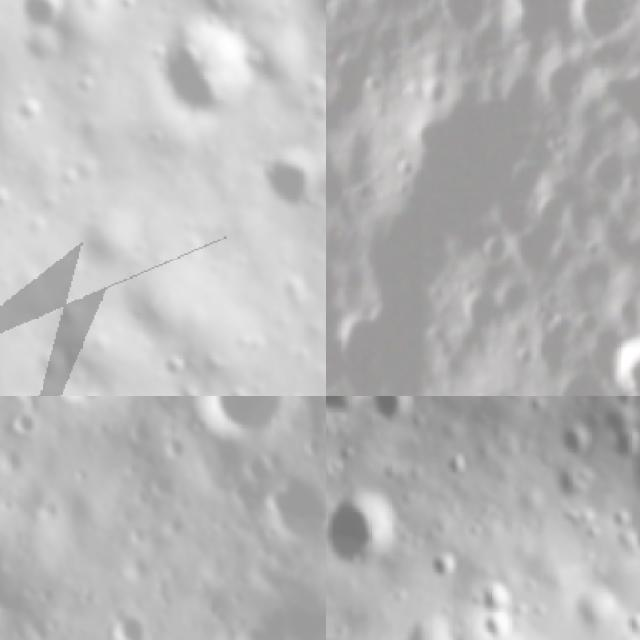crater: (142, 5, 268, 136), (245, 136, 326, 221), (253, 465, 326, 554), (326, 490, 402, 571), (495, 0, 572, 57), (590, 64, 640, 150), (203, 396, 296, 439), (511, 216, 571, 281), (567, 0, 640, 53), (434, 0, 494, 46), (326, 245, 361, 323), (458, 286, 507, 340), (96, 595, 151, 640), (605, 328, 640, 396), (326, 155, 359, 227), (326, 322, 355, 396), (13, 0, 76, 34), (366, 396, 417, 435), (5, 87, 48, 132), (471, 577, 517, 614), (1, 408, 44, 446), (142, 467, 183, 504), (559, 422, 598, 460), (477, 607, 518, 640), (480, 231, 508, 278), (152, 351, 192, 382), (0, 174, 22, 219), (424, 556, 461, 582), (442, 451, 469, 485), (274, 378, 311, 396), (51, 396, 99, 408), (632, 519, 640, 556)
